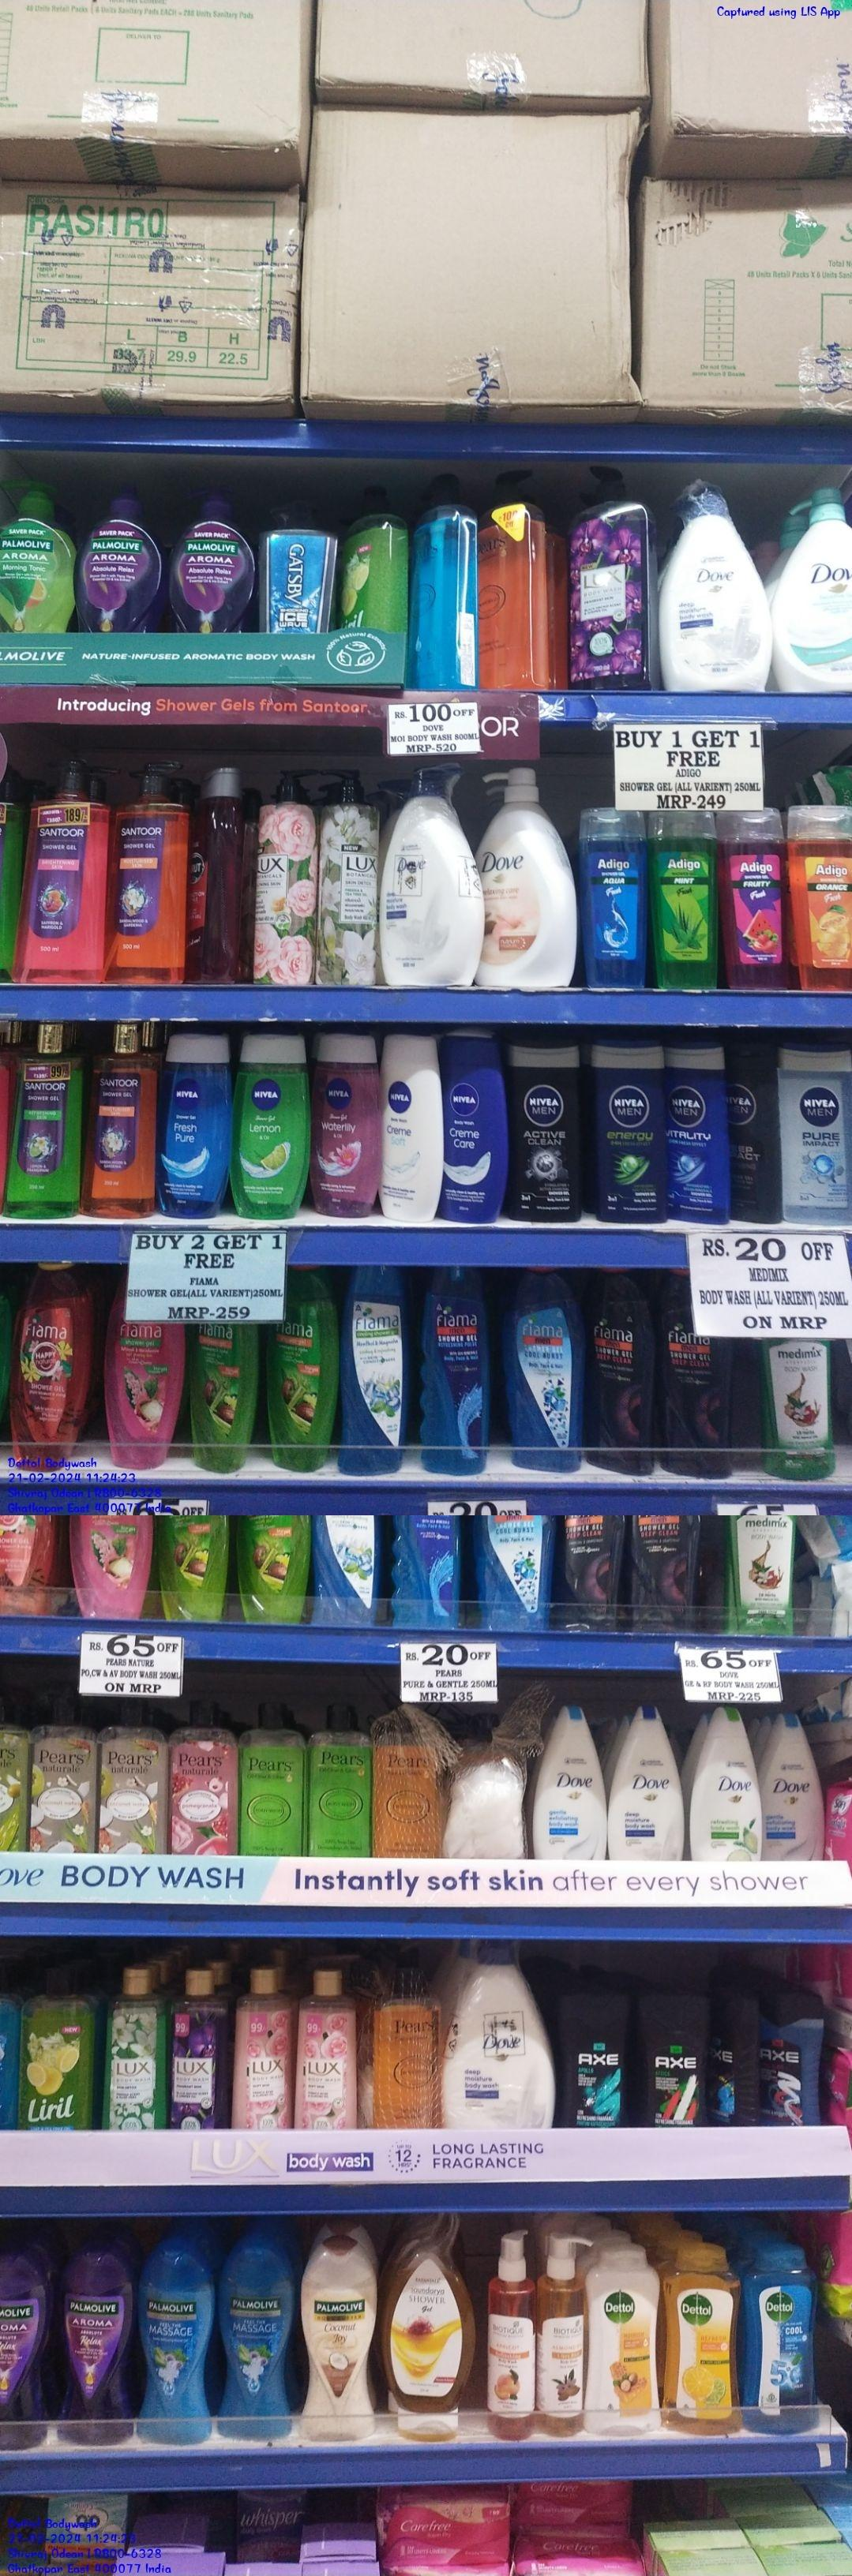Dettol_Bodywash_Cool: (740, 2239, 817, 2435)
Dettol_Bodywash_Refresh: (661, 2238, 740, 2440)
Dettol_Nourish_Body_Wash_250ML: (582, 2241, 664, 2436)
Dove_Deep_Moisture_Body_Wash_250ML: (607, 1704, 688, 1861)
Dove_Gentle_Exfoliating_Body_Wash_250ML: (531, 1700, 609, 1861)
Dove_Refreshing_Body_Wash_250ML: (688, 1707, 763, 1861)
Fiama_Shower_Gel_Patchouli_and_Macadamia_250ML: (102, 1321, 184, 1470)
Liril_Lime_and_Tea_Tree_Oil_Body_Wash_250ML: (15, 1966, 97, 2132)
Lux_Black_Orchid_Scent_and_Juniper_Oil_Body_Wash_245ML: (163, 1965, 229, 2126)
Lux_Body_Wash_Skin_Detox_Freesia_Scent_and_Alove_Vera_245ML: (99, 1963, 164, 2131)
Nivea_Creme_Care_Body_Wash_250ML: (444, 1027, 507, 1224)
Nivea_Creme_Soft_Body_Wash_250ML: (380, 1028, 444, 1224)
Nivea_Shower_Gel_Lemon_and_Oil_250ML: (235, 1030, 314, 1219)
Nivea_Shower_Gel_Waterlily_and_Oil_250ML: (313, 1028, 382, 1219)
Palmolive_Aroma_Moments_Feel_The_Massage_Shower_Gel_250ML: (132, 2239, 215, 2443), (215, 2229, 296, 2440)
Palmolive_Aroma_Relax_250ML: (49, 2238, 133, 2446)
Palmolive_Coconut_Joy_Exfoliating_Body_Wash_250ML: (296, 2233, 378, 2438)
Pears_Pure_Glycerin_and_Lemon_Flower_Extracts_Body_Wash_250ML: (238, 1699, 309, 1855), (309, 1697, 370, 1855)
